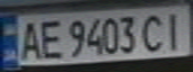0: (103, 15, 121, 55)
3: (118, 12, 142, 54)
4: (84, 15, 106, 56)
9: (63, 16, 87, 57)
A: (15, 18, 45, 62)
C: (139, 11, 169, 53)
E: (36, 17, 63, 61)
I: (157, 9, 190, 51)
